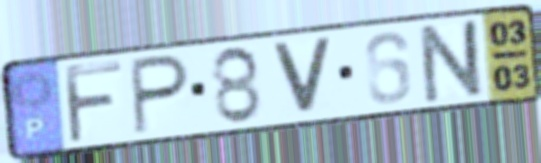6: (362, 29, 414, 107)
8: (208, 43, 264, 128)
F: (60, 59, 127, 147)
N: (418, 15, 489, 107)
P: (128, 51, 194, 138)
V: (267, 36, 336, 117)
